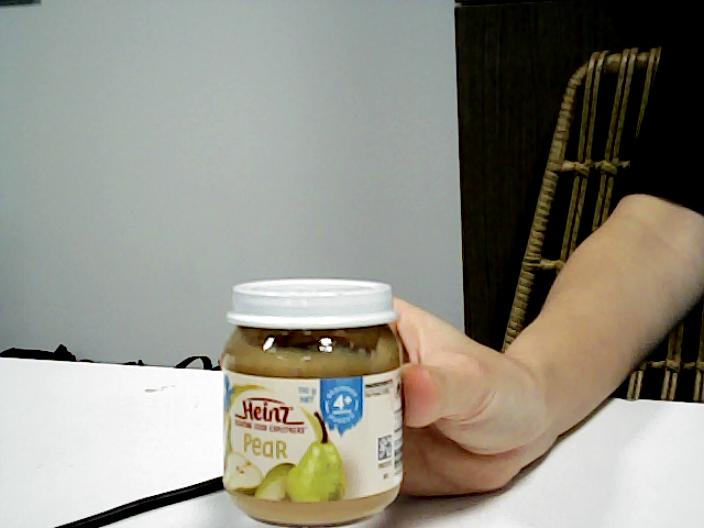Babyfood_100-199g_NonHalal_NonHealthy: (222, 280, 401, 521)
